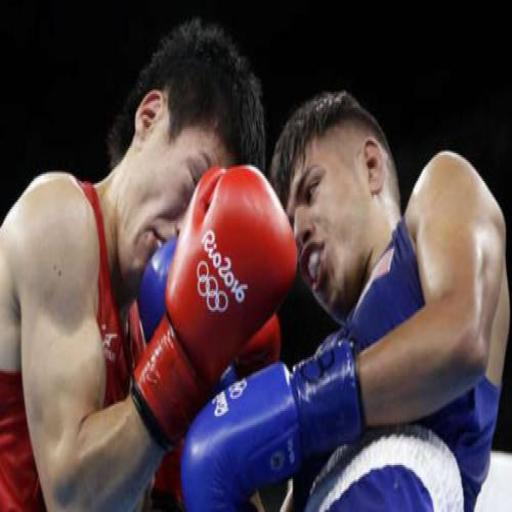boxing: (0, 18, 297, 510), (177, 87, 510, 510)
